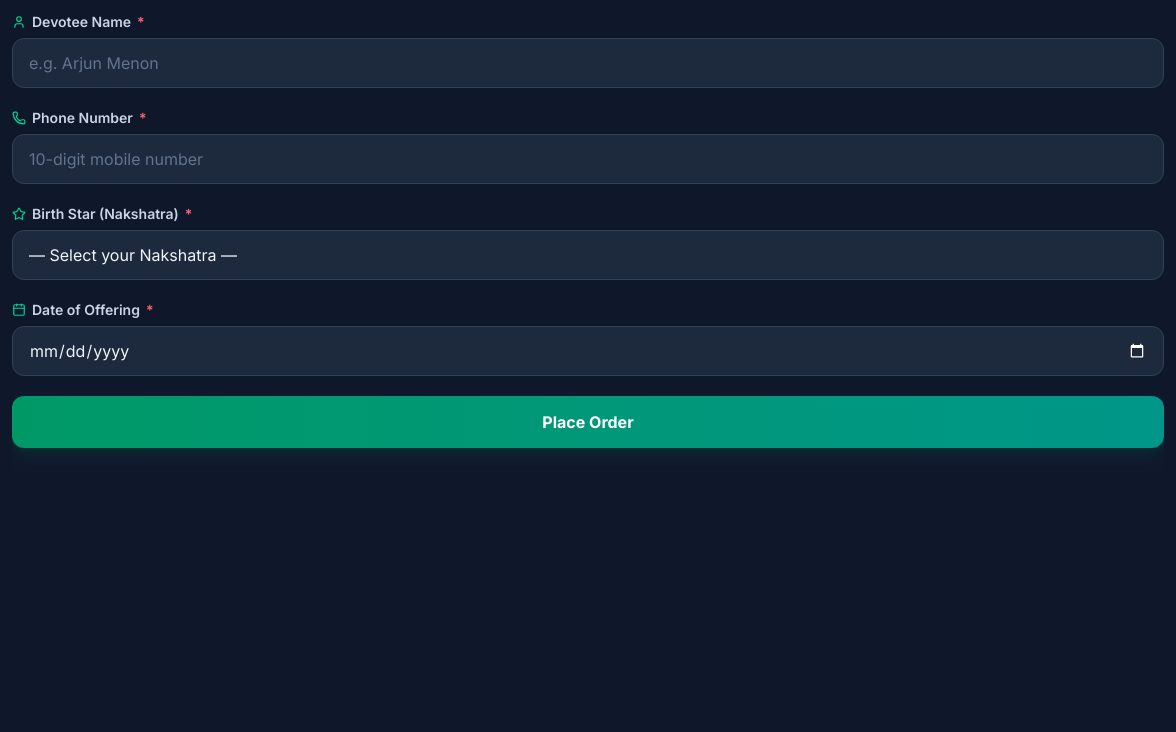
Test: Phase 2: Cart and Order Form › Order Form Validation › shows all inline validation errors when submitting an empty form
Click the button "Place Order" at (588, 422), box x1=12 y1=396 x2=1164 y2=448
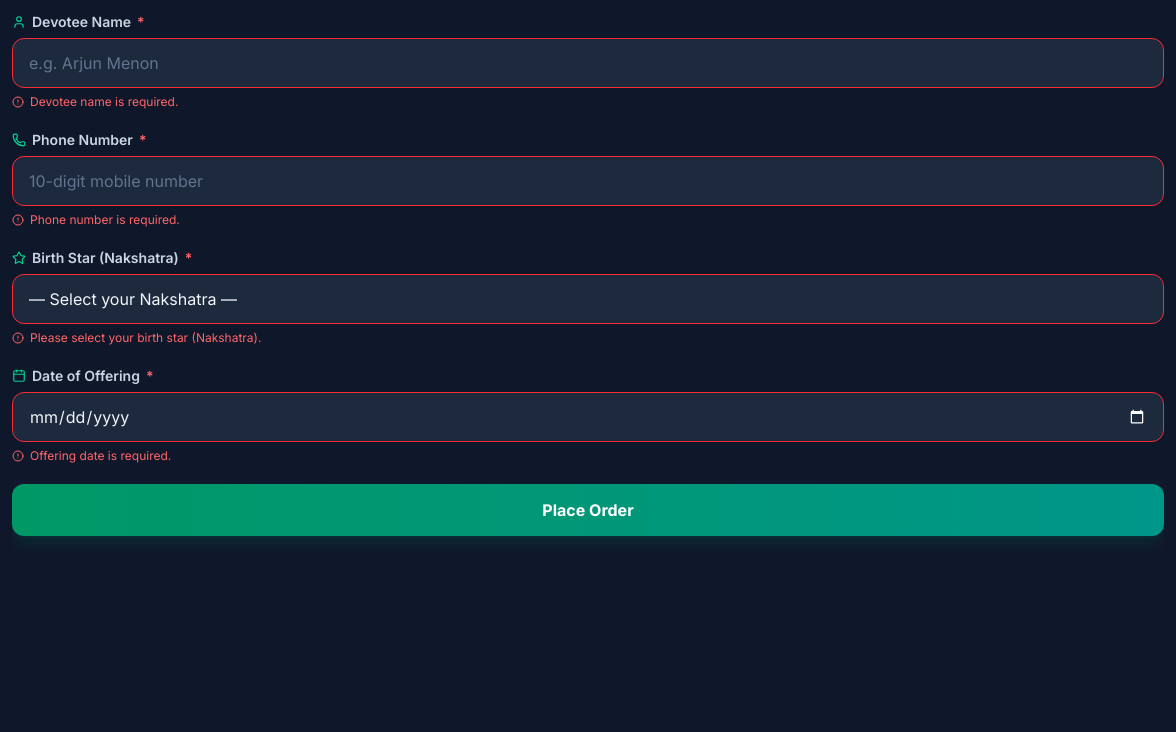
Expected: the text "Devotee name is required." is shown, x1=12 y1=94 x2=178 y2=109
Expected: the text "Phone number is required." is shown, x1=12 y1=212 x2=180 y2=227
Expected: the text "Please select your birth star (Nakshatra)." is shown, x1=12 y1=330 x2=262 y2=345
